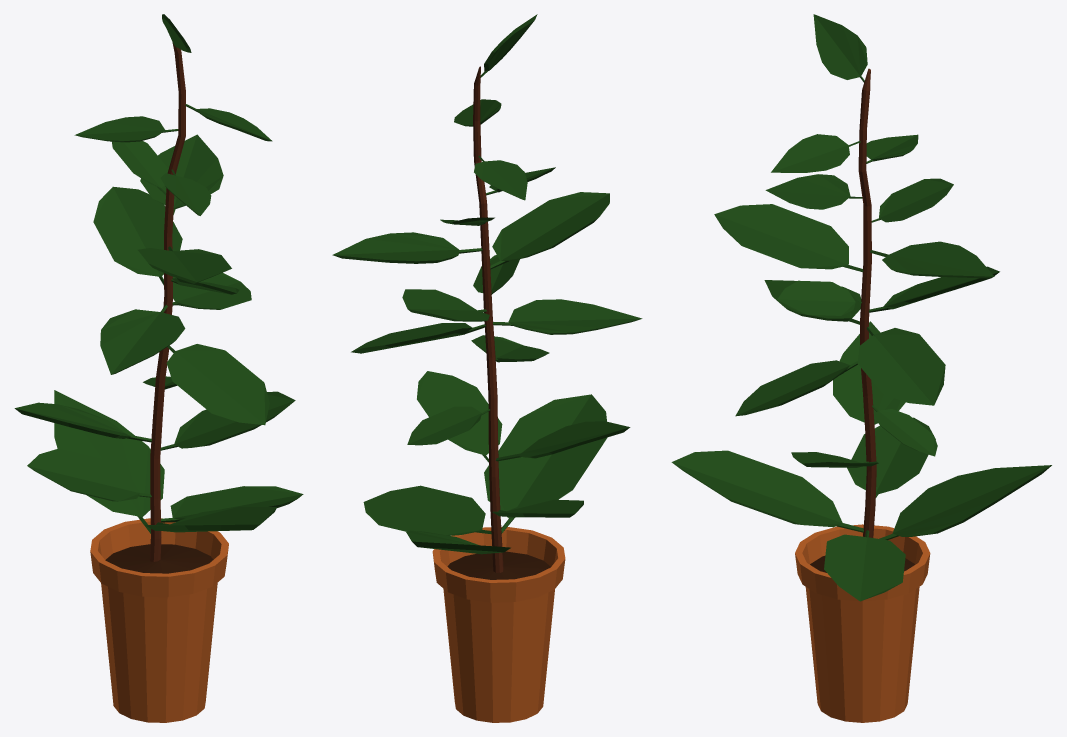
File: potted-plant01.fbx
The picture shows the model from 3 angles, left to right: view 1: azimuth 30°, elevation 25°; view 2: azimuth 150°, elevation 25°; view 3: azimuth 270°, elevation 25°; orthographic projection. The views are drawn at different scales.
Visible parts, largest first — view 1: Pot, Leaf01.006, Leaf01.004, Leaf02.001, Stalk, Leaf02.000, Leaf01.009, Leaf01.010, Leaf01.002, Leaf02.004, Leaf01.007, Leaf01.001 (+7 smaller); view 2: Pot, Leaf01.001, Leaf01.010, Leaf01.007, Stalk, Leaf02.000, Leaf01.002, Leaf02.004, Leaf02.002, Leaf01.004, Leaf01.000, Leaf01.003 (+7 smaller); view 3: Pot, Leaf01.001, Leaf01.007, Leaf02.001, Leaf01.003, Leaf01.010, Stalk, Leaf02.004, Leaf01.009, Leaf01.006, Leaf02.003, Leaf02.002 (+9 smaller).
Part boxes in pixels (box(x1,y1,x2,y2)): Pot: box(90, 518, 228, 722); Leaf01.006: box(166, 344, 269, 425); Leaf01.004: box(93, 186, 182, 285); Leaf02.001: box(54, 390, 164, 533); Stalk: box(149, 42, 185, 561); Leaf02.000: box(100, 304, 185, 374); Leaf01.009: box(27, 448, 151, 501); Leaf01.010: box(161, 486, 303, 522); Leaf01.002: box(160, 391, 295, 450); Leaf02.004: box(140, 134, 223, 214); Leaf01.007: box(138, 246, 231, 283); Leaf01.001: box(145, 507, 276, 532); Pot: box(432, 527, 565, 722); Leaf01.001: box(484, 394, 607, 533); Leaf01.010: box(363, 485, 491, 535); Leaf01.007: box(490, 192, 609, 269); Stalk: box(473, 66, 503, 572); Leaf02.000: box(493, 299, 642, 334); Leaf01.002: box(417, 371, 502, 462); Leaf02.004: box(332, 232, 482, 263); Leaf02.002: box(495, 421, 630, 461); Leaf01.004: box(402, 289, 489, 321); Leaf01.000: box(407, 406, 489, 445); Leaf01.003: box(351, 323, 485, 353); Pot: box(795, 524, 930, 722); Leaf01.001: box(671, 450, 863, 532); Leaf01.007: box(714, 204, 863, 271); Leaf02.001: box(879, 465, 1051, 540); Leaf01.003: box(857, 326, 945, 405); Leaf01.010: box(824, 530, 905, 601); Stalk: box(858, 68, 876, 537); Leaf02.004: box(870, 241, 994, 278); Leaf01.009: box(847, 417, 935, 497); Leaf01.006: box(735, 360, 857, 416); Leaf02.003: box(813, 14, 867, 82); Leaf02.002: box(833, 321, 905, 424).
Bounding box in the file's own units: 77.24 × 183 × 92.81.
